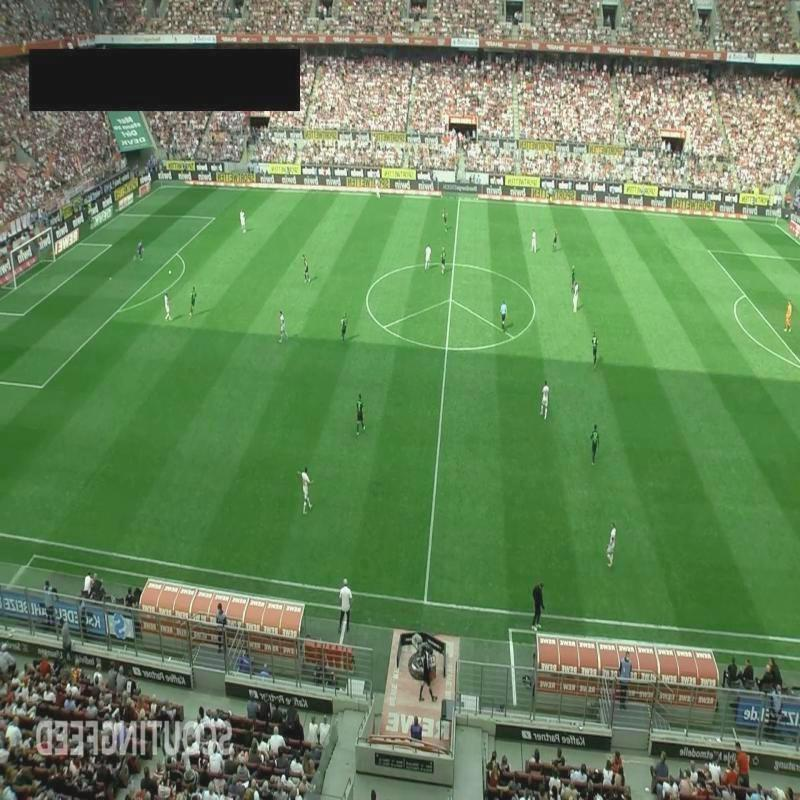1: (155, 180, 169, 194), (770, 219, 781, 231)
10: (738, 288, 754, 304), (169, 249, 183, 262)
11: (111, 305, 125, 319)
12: (34, 378, 48, 392)
13: (452, 192, 466, 206)
14: (446, 257, 461, 271)
15: (439, 342, 454, 356)
16: (416, 592, 434, 611)
2: (113, 208, 127, 222)
3: (71, 238, 85, 251)
7: (104, 238, 118, 252)
8: (18, 307, 32, 321)
9: (702, 244, 716, 258), (208, 212, 220, 224)
c: (361, 291, 375, 305), (528, 303, 542, 316)
